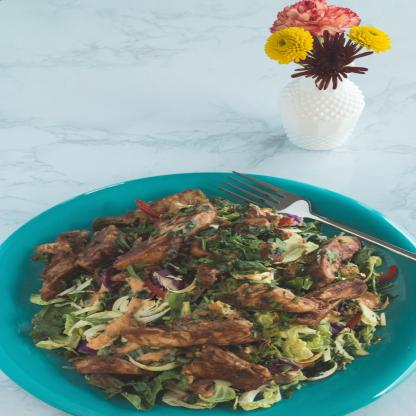Carne: (42, 227, 118, 270), (124, 318, 238, 346), (183, 348, 270, 378)
